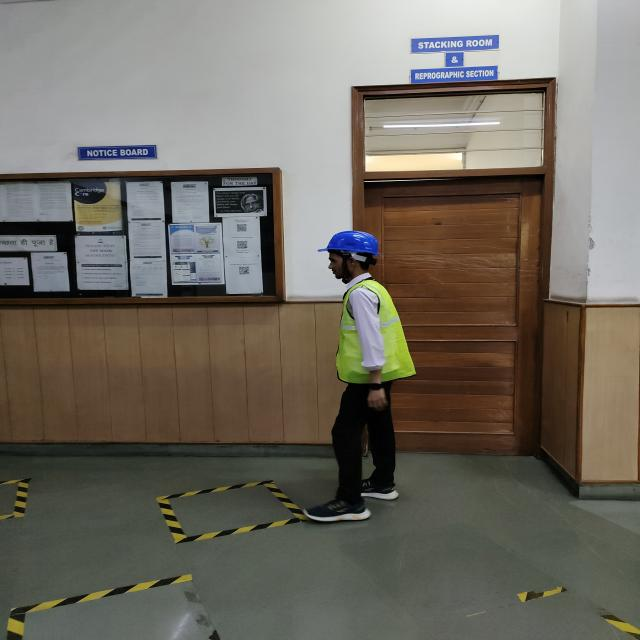safe: (318, 230, 415, 520)
